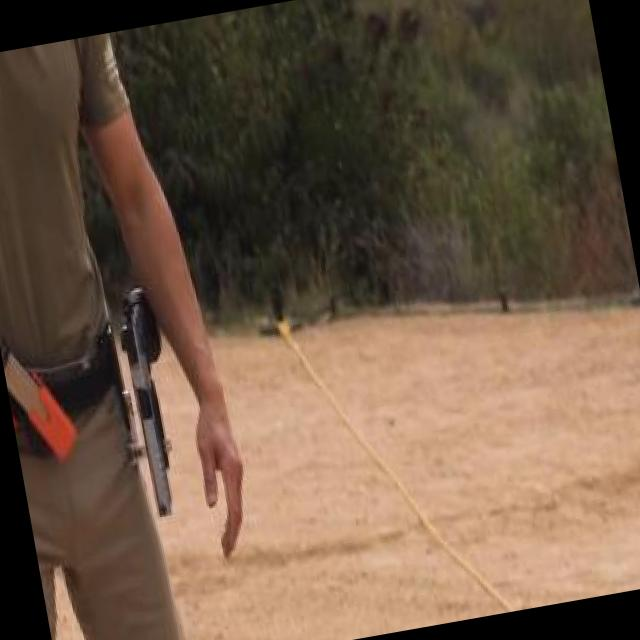Guns: (87, 257, 200, 524)
